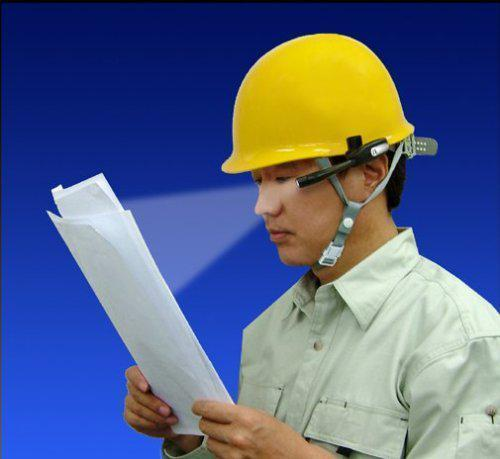helmet: (221, 33, 415, 174)
